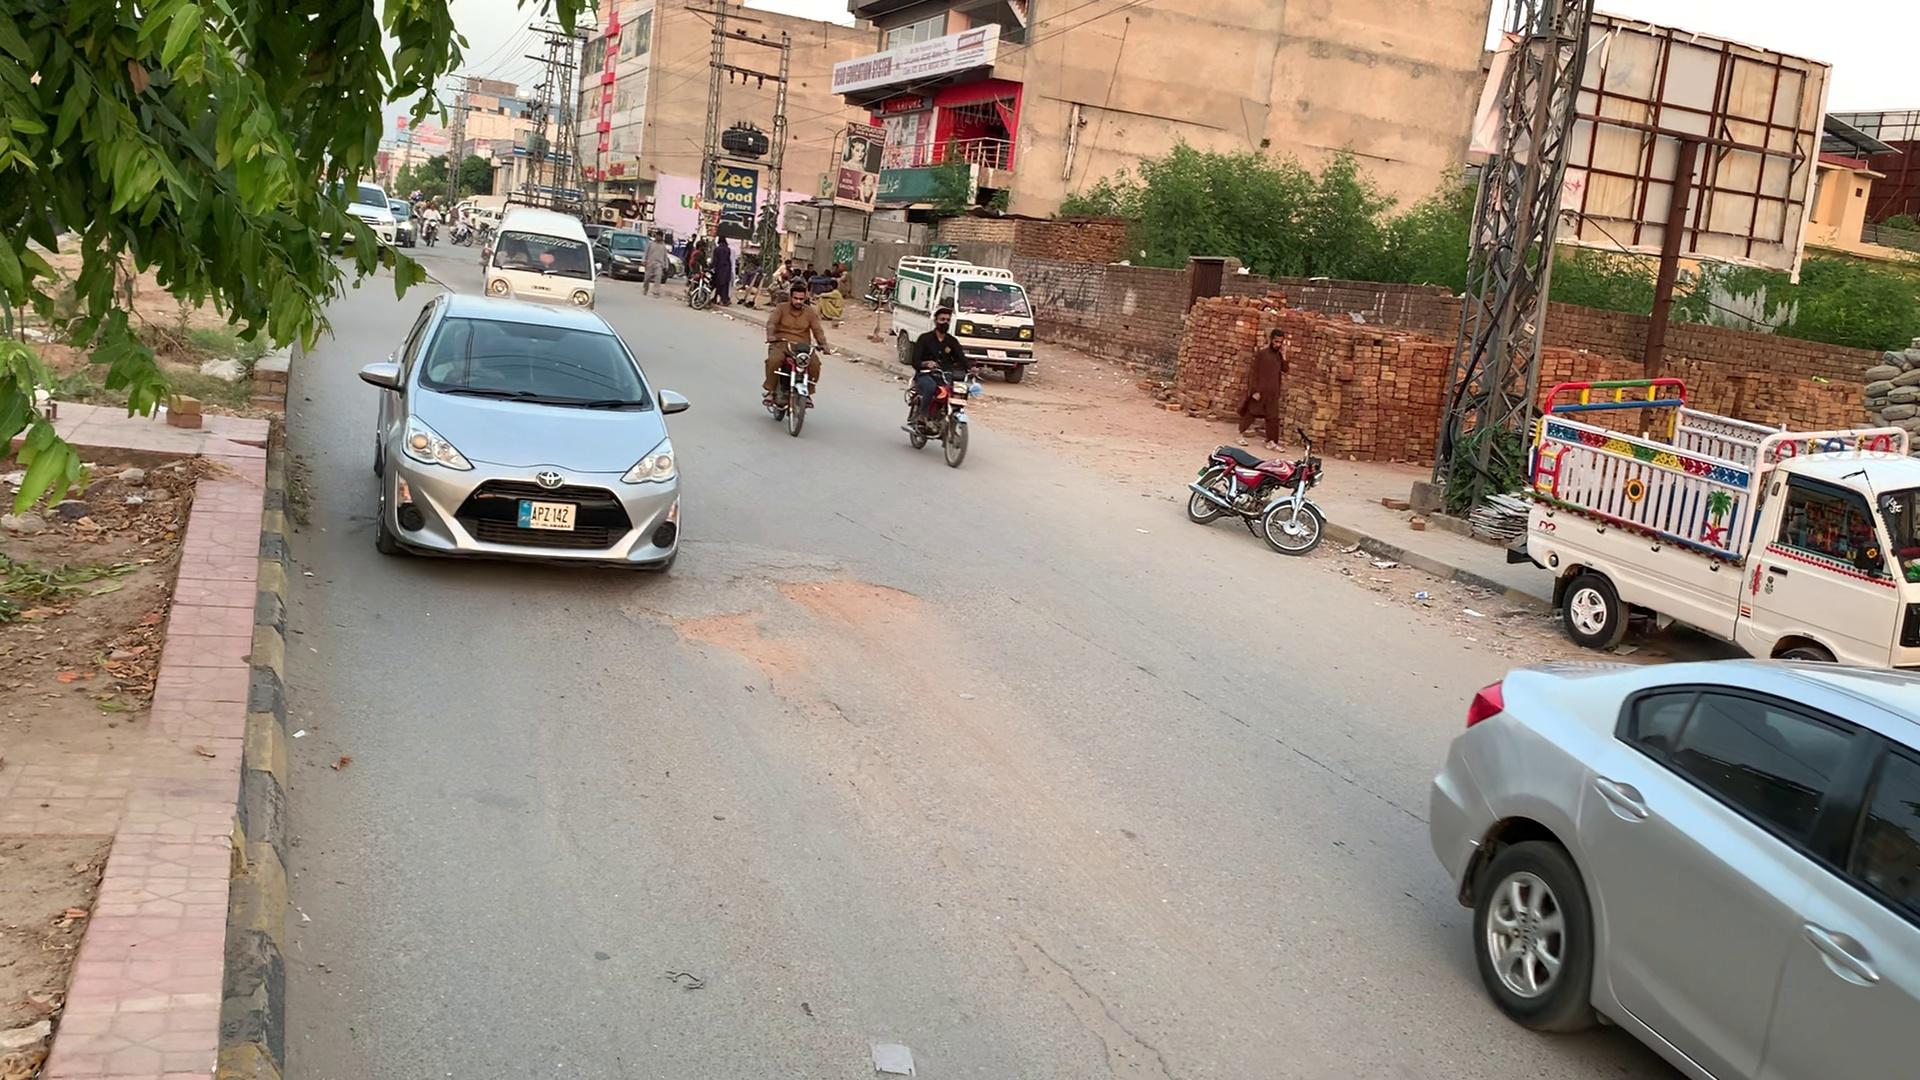windshield: (414, 307, 654, 404)
